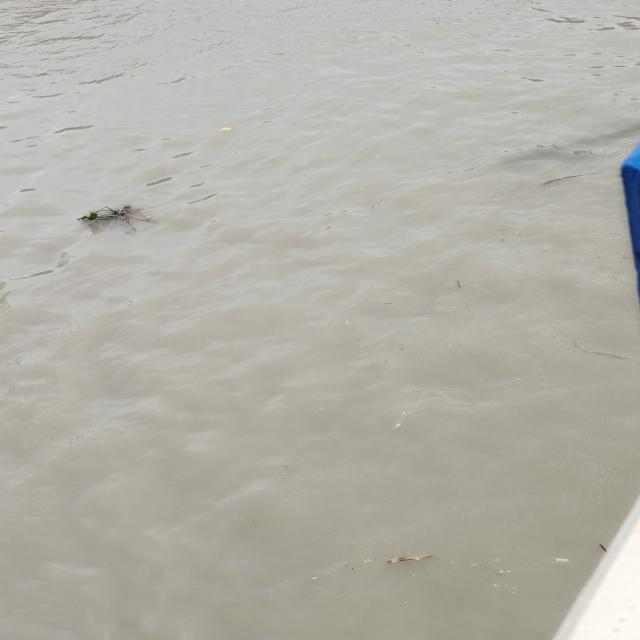Organic Debris: (79, 199, 157, 237), (540, 170, 609, 189), (378, 553, 435, 565), (414, 306, 436, 317), (555, 557, 574, 565), (214, 126, 236, 132), (597, 542, 606, 552), (454, 280, 463, 289), (380, 554, 398, 558), (334, 590, 346, 595), (447, 559, 455, 563), (447, 344, 454, 348), (426, 573, 433, 577), (473, 283, 479, 287), (418, 356, 424, 360), (310, 577, 318, 580), (495, 572, 503, 575), (384, 302, 394, 304), (471, 563, 476, 567), (494, 558, 499, 562), (301, 580, 306, 584), (367, 558, 372, 562), (478, 563, 482, 567), (453, 292, 458, 295), (344, 564, 349, 567), (512, 591, 517, 594), (493, 584, 498, 587), (481, 288, 485, 291), (465, 305, 469, 308), (446, 310, 452, 312), (408, 324, 412, 327), (344, 592, 350, 594), (412, 574, 416, 577), (363, 552, 366, 556), (499, 570, 503, 573), (507, 570, 511, 573), (483, 559, 488, 561), (329, 573, 334, 575), (504, 586, 509, 588), (400, 347, 403, 350), (404, 601, 407, 604), (364, 560, 367, 563), (396, 350, 399, 352), (361, 330, 364, 332), (352, 567, 354, 570), (504, 584, 507, 586), (488, 576, 491, 578), (372, 308, 374, 310), (514, 587, 516, 589)
Plastic: (345, 319, 350, 327), (380, 197, 384, 207), (370, 244, 375, 246)
